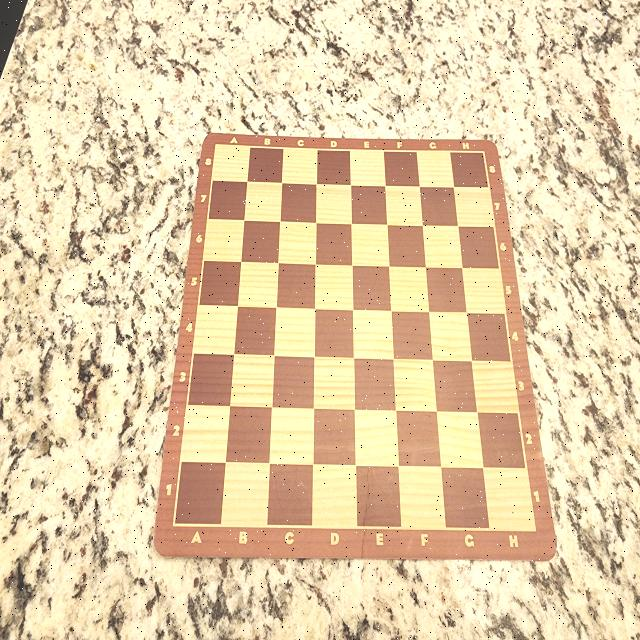Bottom-Left: (173, 463, 225, 526)
Bottom-Right: (483, 468, 536, 531)
Top-Left: (216, 144, 248, 182)
Top-Right: (454, 150, 484, 187)
